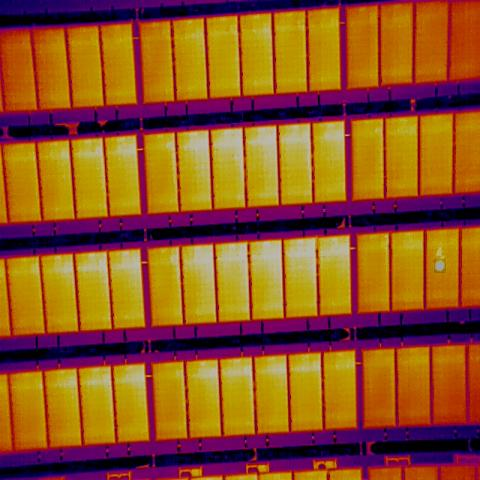fault: (434, 259, 446, 273)
